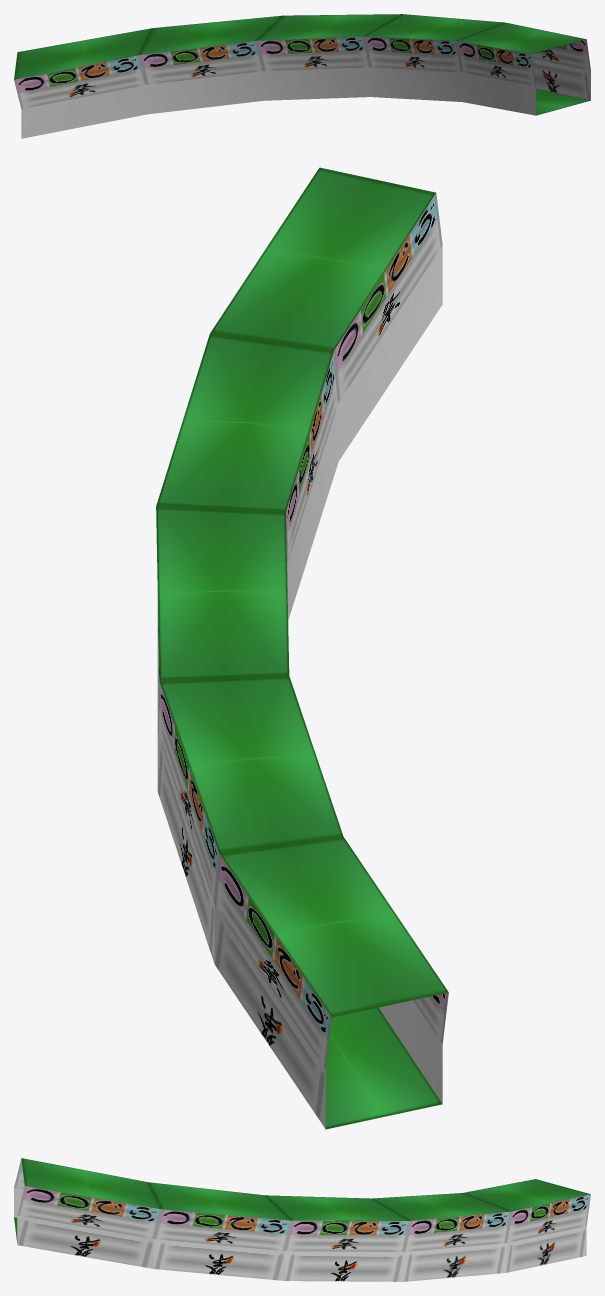
Rendered from CourseSummer_Wall_L_6.fbx.
The picture shows the model from 3 angles, top to bottom: view 1: azimuth 30°, elevation 25°; view 2: azimuth 150°, elevation 25°; view 3: azimuth 270°, elevation 25°; orthographic projection. The views are drawn at different scales.
Visible parts, largest first — view 1: polySurface62; view 2: polySurface62; view 3: polySurface62.
Boxes of the visible parts, left/top/right/bottom form: polySurface62: left=14, top=14, right=590, bottom=138; polySurface62: left=156, top=167, right=448, bottom=1129; polySurface62: left=14, top=1158, right=590, bottom=1281.
Size of the model in its own units: 11.23 by 6.97 by 17.48.
Materials: 1 (1 with a texture image).
